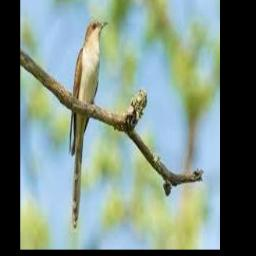Cuckoo: (69, 20, 109, 228)
